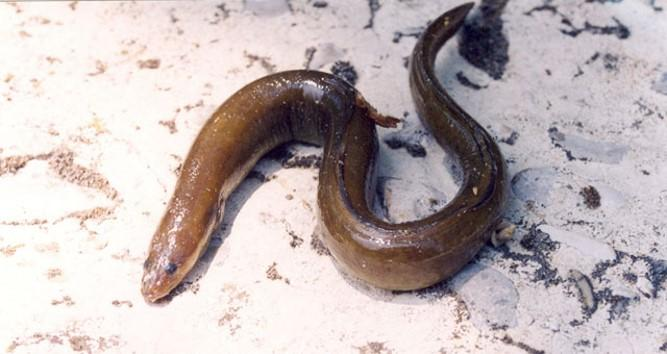Freshwater Eel: (139, 3, 512, 305)
